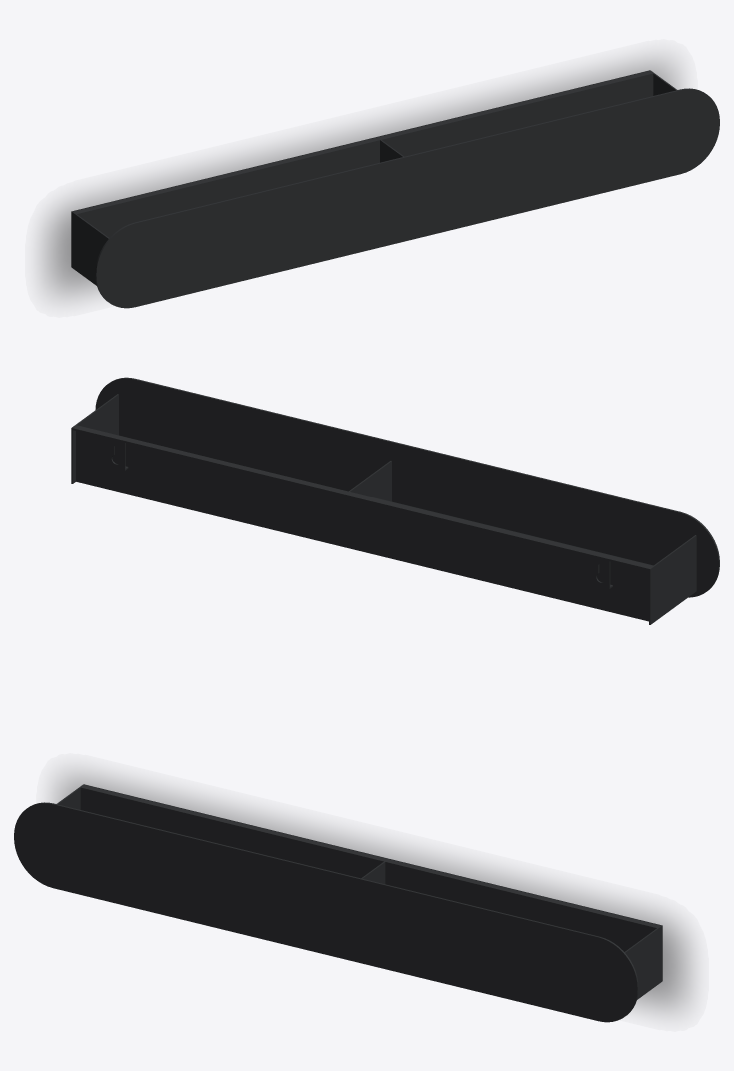
File: round-double.3a124791f9.ar.glb
3 views of the same model, one above another, from view 1: azimuth 30°, elevation 25°; view 2: azimuth 150°, elevation 25°; view 3: azimuth 330°, elevation 25° (orthographic).
Parts seen in each view (by area): view 1: NAUO1, object 3; view 2: NAUO1, NAUO2; view 3: NAUO1, object 3.
Boxes of the visible parts, box(x1,y1,x2,y2) form: NAUO1: box(71, 70, 719, 308); object 3: box(42, 59, 679, 297); NAUO1: box(71, 377, 719, 624); NAUO2: box(107, 438, 612, 588); NAUO1: box(14, 784, 662, 1022); object 3: box(54, 773, 691, 1011).
Bounding box in the file's own units: 0.78 × 0.17 × 0.092.
2 materials, 1 textured.
